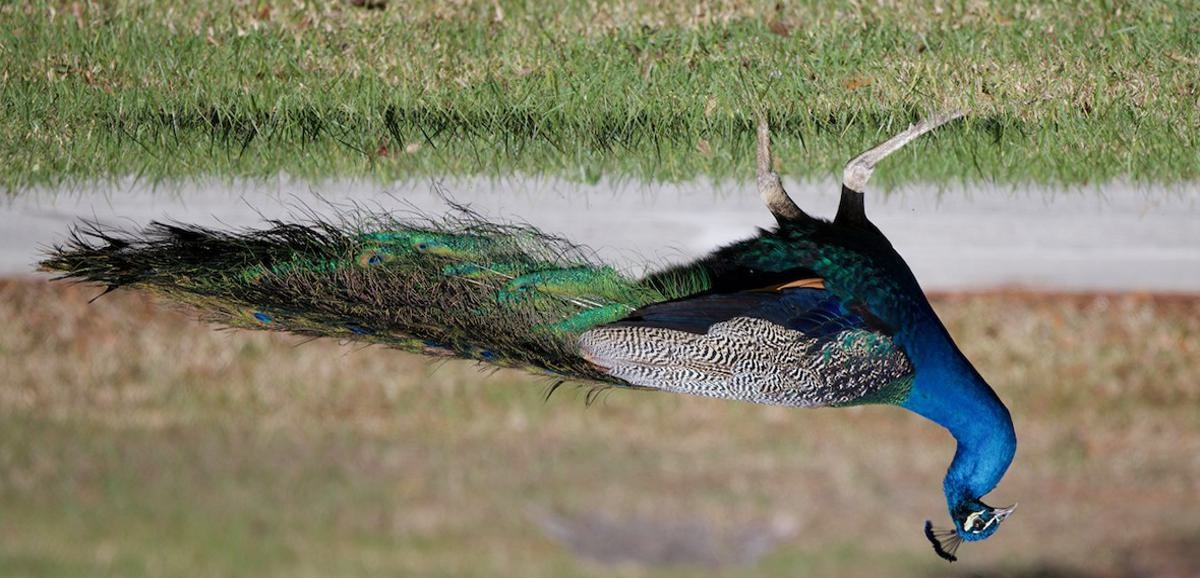peacock: (77, 101, 1056, 559)
